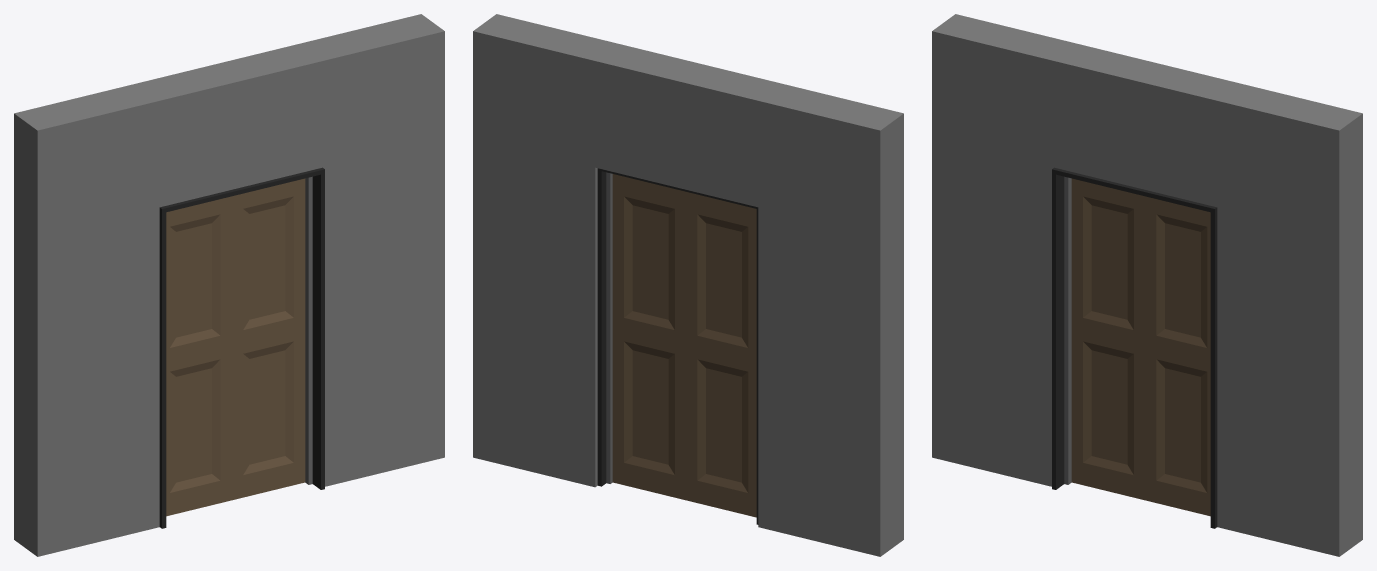
Rendered from Door_Right.fbx.
The picture shows the model from 3 angles, left to right: view 1: azimuth 30°, elevation 25°; view 2: azimuth 150°, elevation 25°; view 3: azimuth 330°, elevation 25°; orthographic projection.
Visible parts, largest first — view 1: Door_Right, Cube.005, Cube.003, Cube.004; view 2: Door_Right, Cube.005, Cube.003, Cube.004; view 3: Door_Right, Cube.005, Cube.003, Cube.004.
Boxes of the visible parts, <box> form: Door_Right: <box>14,14,444,556</box>; Cube.005: <box>166,178,305,516</box>; Cube.003: <box>159,167,324,528</box>; Cube.004: <box>305,176,312,484</box>; Door_Right: <box>473,14,903,556</box>; Cube.005: <box>612,174,756,517</box>; Cube.003: <box>597,168,758,524</box>; Cube.004: <box>606,172,612,483</box>; Door_Right: <box>932,14,1362,556</box>; Cube.005: <box>1071,178,1210,516</box>; Cube.003: <box>1052,167,1217,528</box>; Cube.004: <box>1064,176,1071,484</box>.
Bounding box in the file's own units: 20 × 2.2 × 20.
